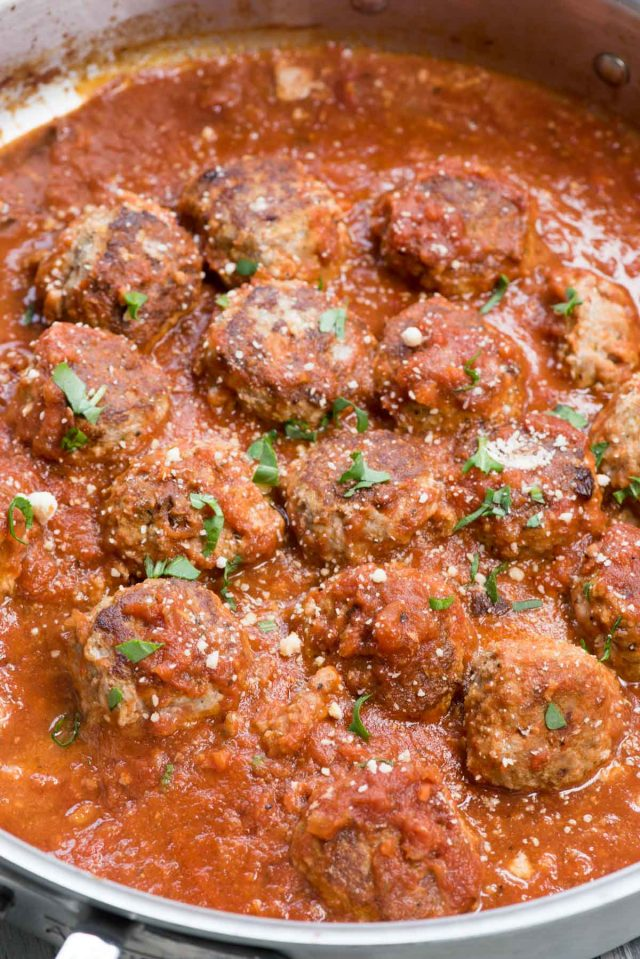meatballs: (302, 567, 466, 724), (459, 637, 612, 798), (294, 783, 475, 919), (81, 586, 242, 734), (119, 458, 280, 581), (40, 208, 195, 329), (199, 164, 352, 285), (212, 291, 360, 416), (284, 446, 454, 552), (27, 325, 165, 451), (382, 299, 516, 423), (390, 176, 525, 296), (458, 428, 590, 543), (568, 531, 640, 653)
